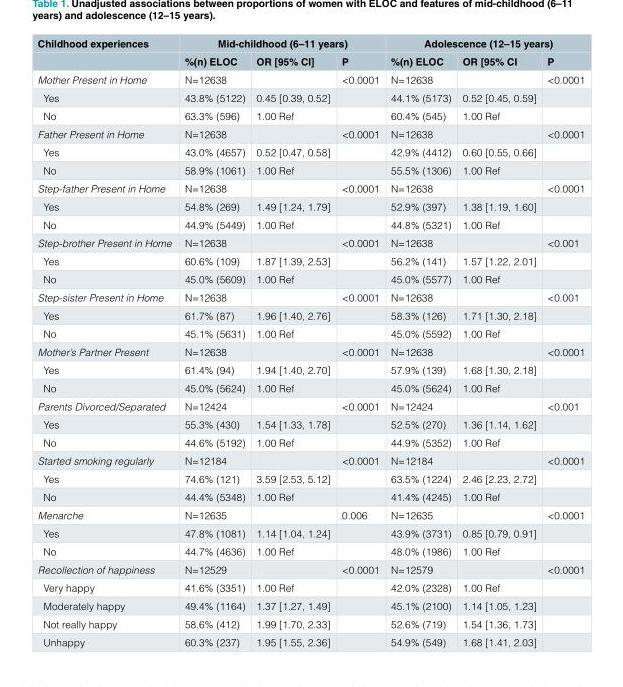table: (36, 36, 584, 647)
table column: (36, 36, 177, 647), (250, 36, 335, 647), (456, 36, 541, 647), (177, 36, 250, 647), (384, 36, 456, 647), (335, 36, 384, 647), (541, 36, 584, 647)
table column header: (36, 36, 584, 69)
table row: (36, 69, 584, 88), (36, 178, 584, 197), (36, 305, 584, 324), (36, 432, 584, 451), (36, 559, 584, 578), (36, 51, 584, 69), (36, 88, 584, 106), (36, 106, 584, 124), (36, 124, 584, 142), (36, 142, 584, 160), (36, 160, 584, 178), (36, 197, 584, 215), (36, 215, 584, 233), (36, 233, 584, 251), (36, 251, 584, 269), (36, 269, 584, 287), (36, 287, 584, 305), (36, 324, 584, 342), (36, 342, 584, 360), (36, 360, 584, 378), (36, 378, 584, 396), (36, 396, 584, 414), (36, 414, 584, 432), (36, 451, 584, 469), (36, 469, 584, 487), (36, 487, 584, 505), (36, 505, 584, 523), (36, 523, 584, 541), (36, 541, 584, 559), (36, 578, 584, 596), (36, 596, 584, 614), (36, 614, 584, 632), (36, 36, 584, 51), (36, 632, 584, 647)
table spanning cell: (36, 36, 177, 69), (177, 36, 384, 51), (384, 36, 584, 51)
